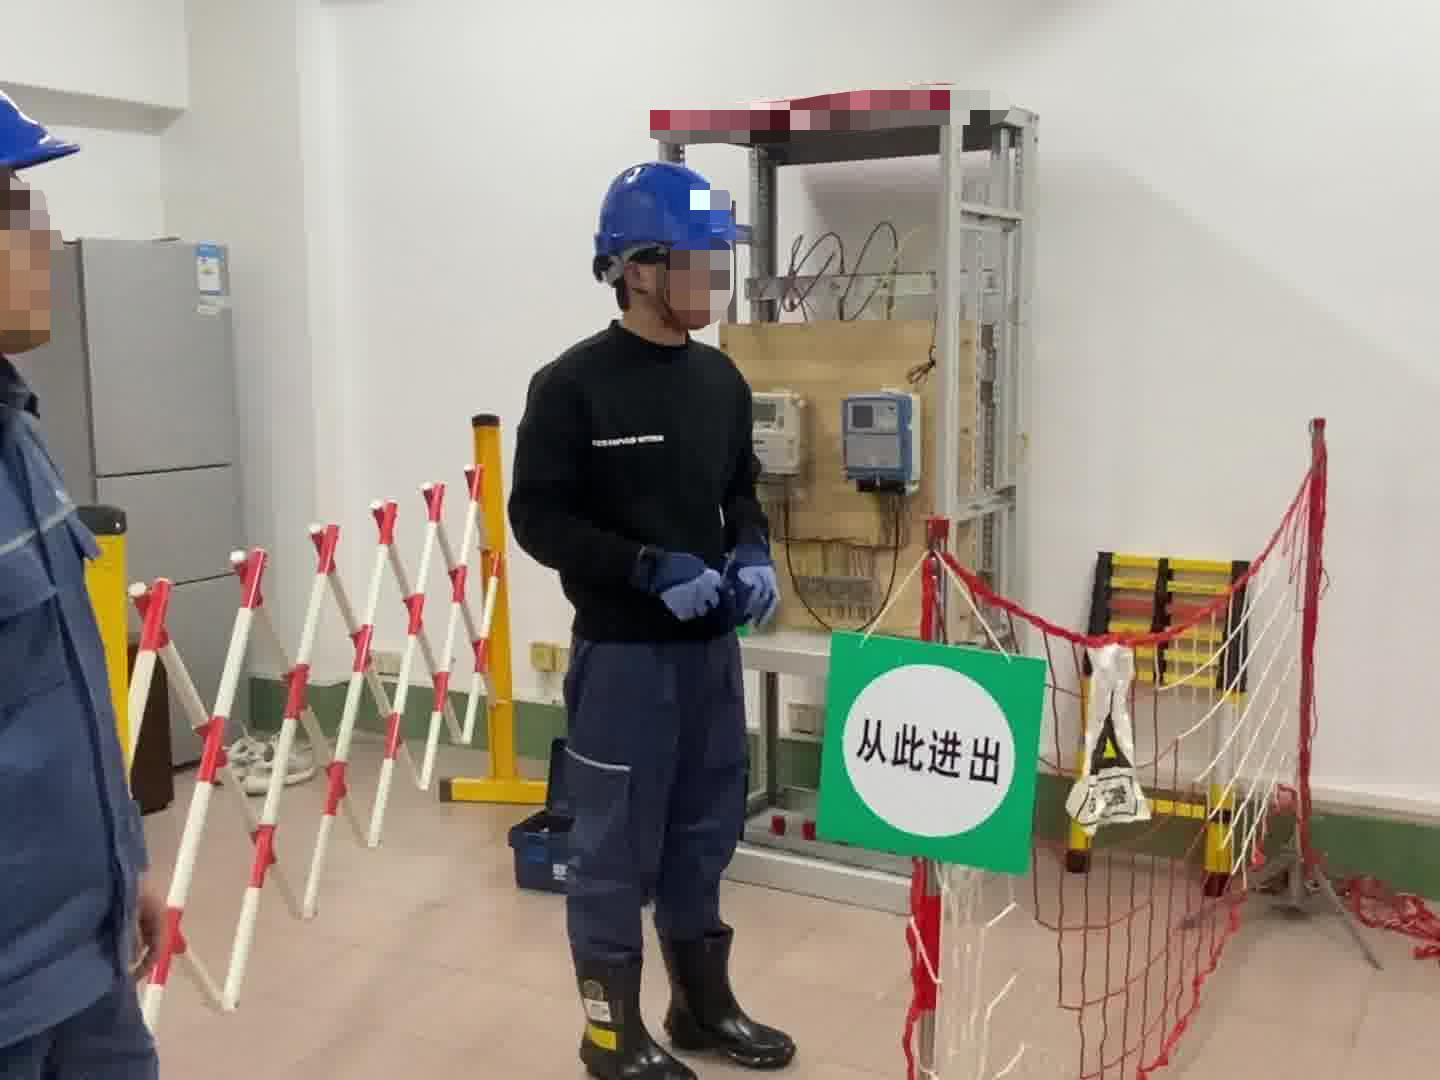halt: (590, 163, 756, 346), (5, 76, 81, 361)
inear: (615, 248, 681, 320)
